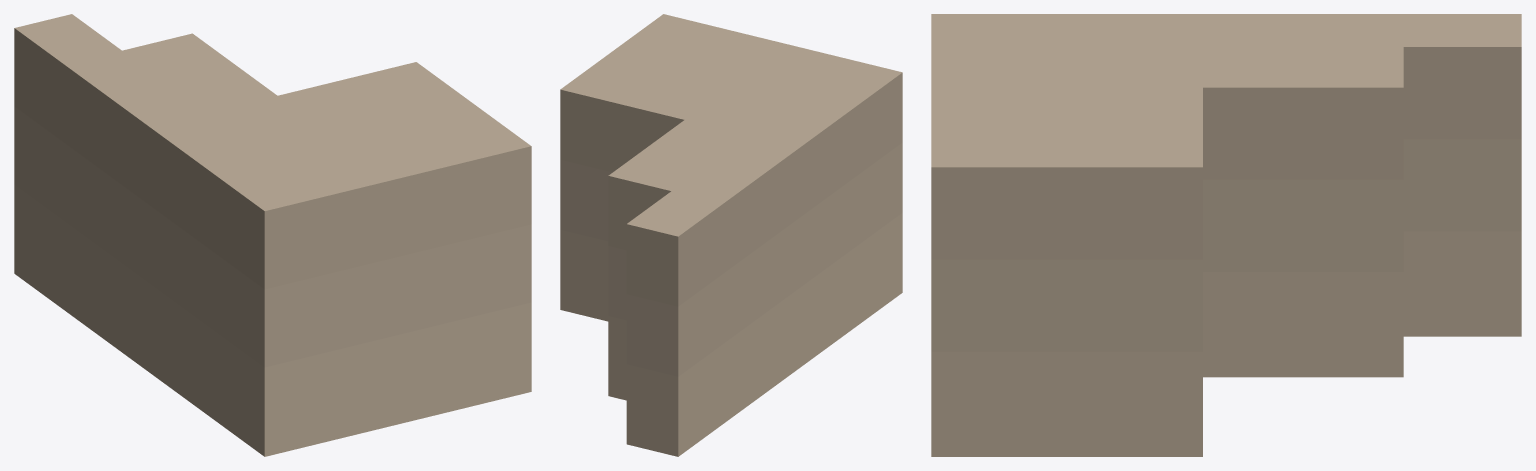
The model's file is massing.glb.
3 views of the same model, side by side, from view 1: azimuth 30°, elevation 25°; view 2: azimuth 150°, elevation 25°; view 3: azimuth 270°, elevation 25° (orthographic). The views are drawn at different scales.
Parts seen in each view (by area): view 1: main/floor3/0/0, main/floor1/0/0, main/floor2/0/0; view 2: main/floor3/0/0, main/floor1/0/0, main/floor2/0/0; view 3: main/floor3/0/0, main/floor1/0/0, main/floor2/0/0.
Part boxes in pixels (x1,y1,x2,y2): main/floor3/0/0: (14, 14, 531, 289); main/floor1/0/0: (14, 184, 531, 456); main/floor2/0/0: (14, 106, 531, 367); main/floor3/0/0: (560, 14, 902, 306); main/floor1/0/0: (560, 213, 902, 456); main/floor2/0/0: (560, 143, 902, 376); main/floor3/0/0: (931, 14, 1521, 259); main/floor1/0/0: (931, 231, 1521, 456); main/floor2/0/0: (931, 139, 1521, 351).
Size of the model in its own units: 10 by 8.8 by 16.25.
